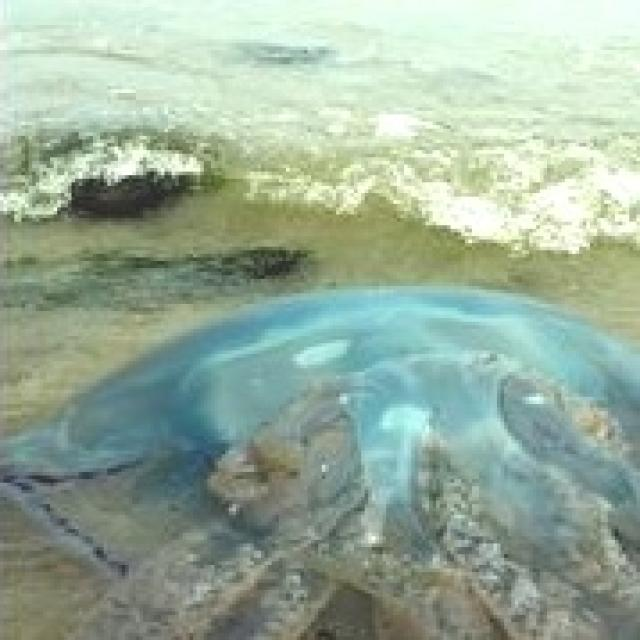Box-jellyfish: (0, 278, 636, 636)
